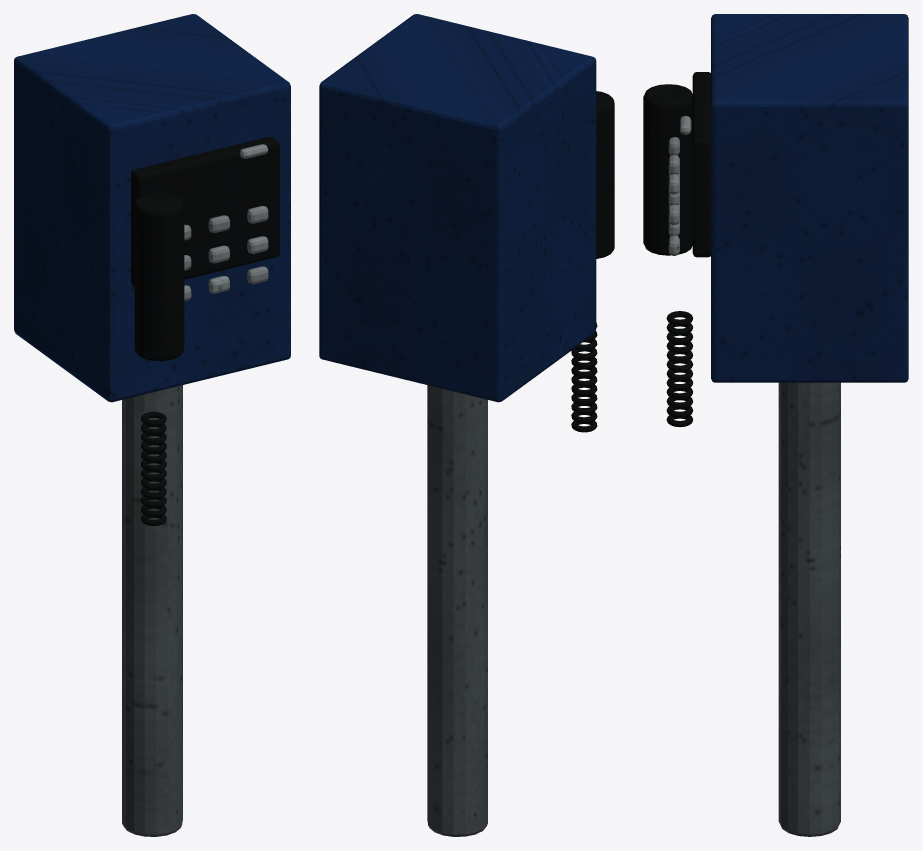
Rendered from PROP-EC9C7FC58D70_lod0.glb.
The picture shows the model from 3 angles, left to right: view 1: azimuth 30°, elevation 25°; view 2: azimuth 150°, elevation 25°; view 3: azimuth 270°, elevation 25°; orthographic projection.
Visible parts, largest first — view 1: cabinet.012, fixture_post.007, recessed_front.012, handset.004, phone_cord.004, phone_keypad.004; view 2: cabinet.012, fixture_post.007, handset.004, phone_cord.004; view 3: cabinet.012, fixture_post.007, handset.004, recessed_front.012, phone_cord.004, phone_keypad.004.
Boxes of the visible parts, x1=… form: cabinet.012: x1=14, y1=14, x2=290, y2=402; fixture_post.007: x1=122, y1=385, x2=182, y2=836; recessed_front.012: x1=131, y1=137, x2=279, y2=286; handset.004: x1=134, y1=192, x2=184, y2=361; phone_cord.004: x1=141, y1=411, x2=166, y2=525; phone_keypad.004: x1=184, y1=206, x2=268, y2=300; cabinet.012: x1=319, y1=14, x2=596, y2=402; fixture_post.007: x1=427, y1=385, x2=487, y2=836; handset.004: x1=596, y1=91, x2=614, y2=258; phone_cord.004: x1=571, y1=322, x2=597, y2=432; cabinet.012: x1=711, y1=14, x2=908, y2=382; fixture_post.007: x1=778, y1=382, x2=840, y2=836; handset.004: x1=643, y1=84, x2=692, y2=255; recessed_front.012: x1=692, y1=72, x2=710, y2=257; phone_cord.004: x1=666, y1=311, x2=693, y2=427; phone_keypad.004: x1=668, y1=137, x2=679, y2=255.
Size of the model in its own units: 0.38 by 1.5 by 0.47.
4 materials, 4 textured.
